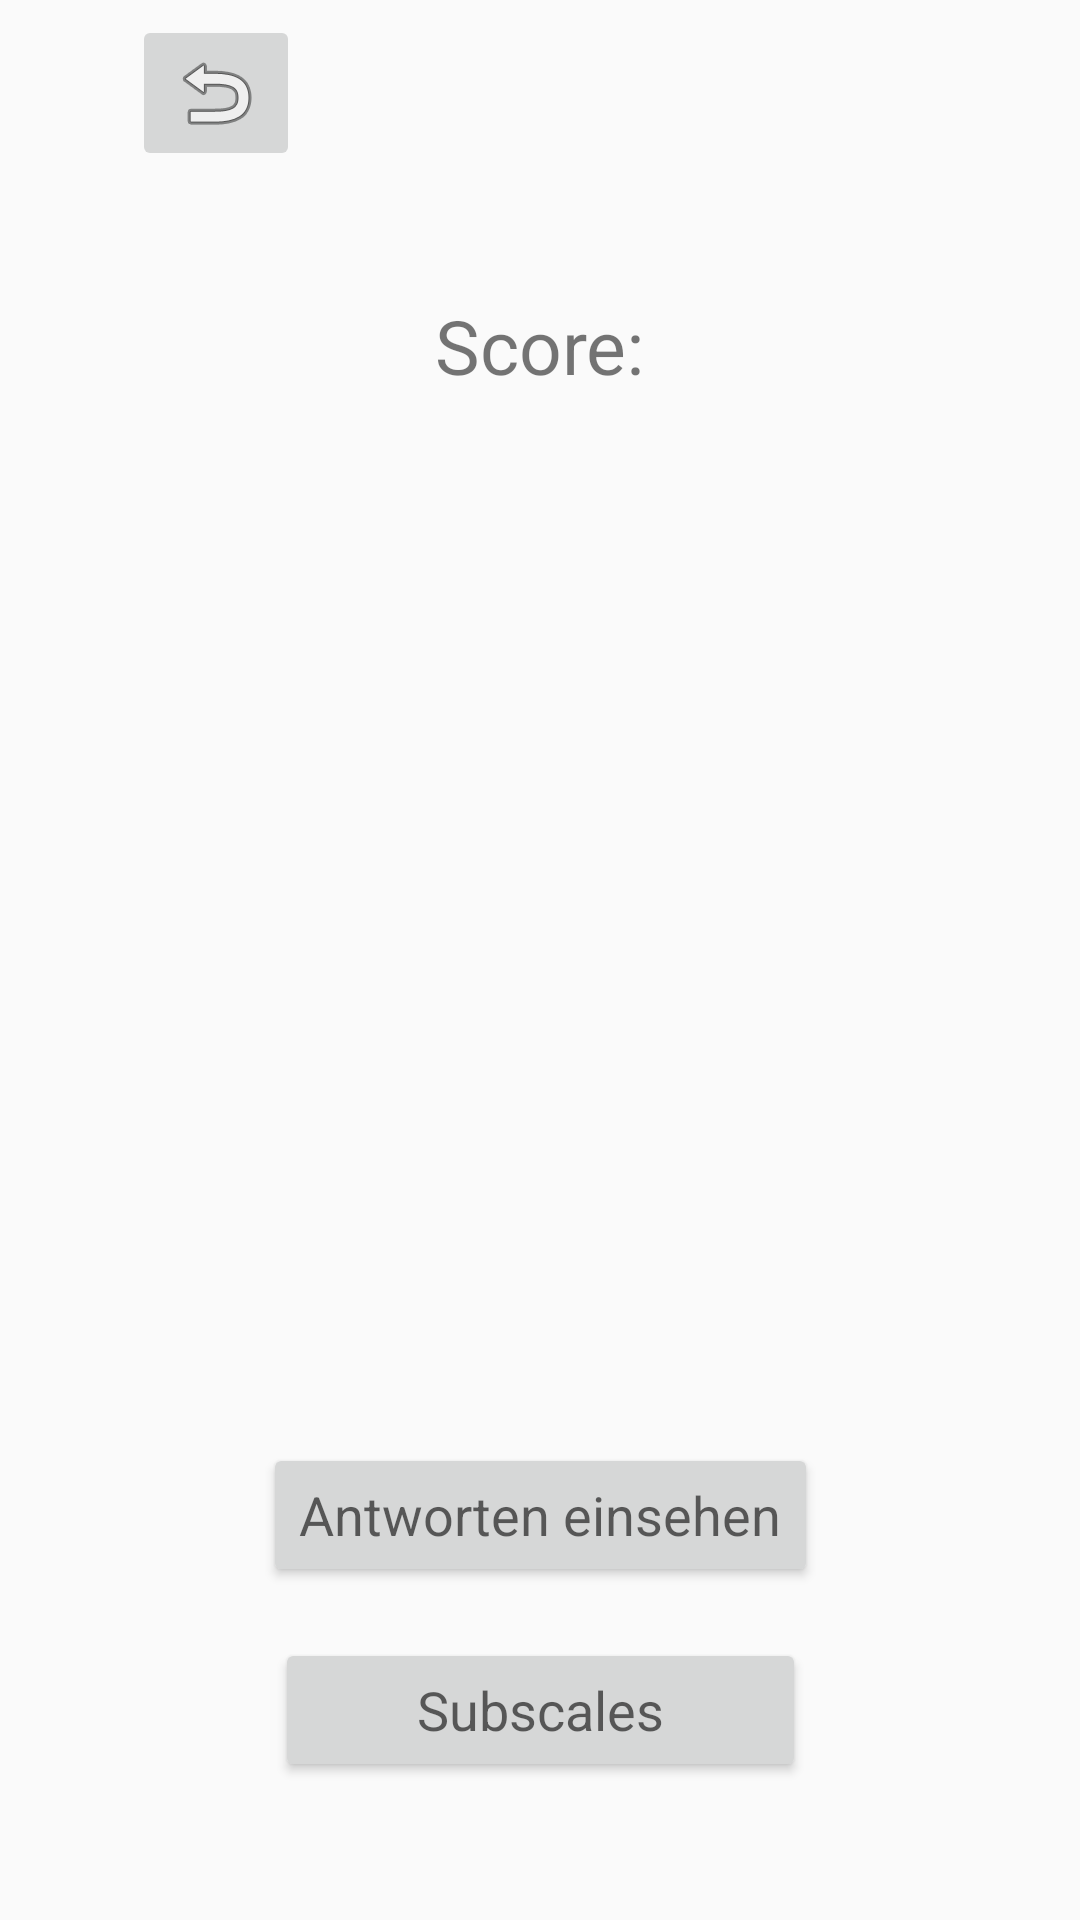

Named icons in this screenshot (1080x1920) and their bounding boxes, [x1=x1, y1=y1, x2=x2, y2=y2]:
revert: [x1=144, y1=33, x2=288, y2=153]
